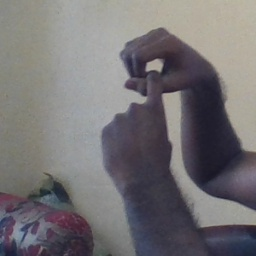Q: (97, 24, 195, 162)
